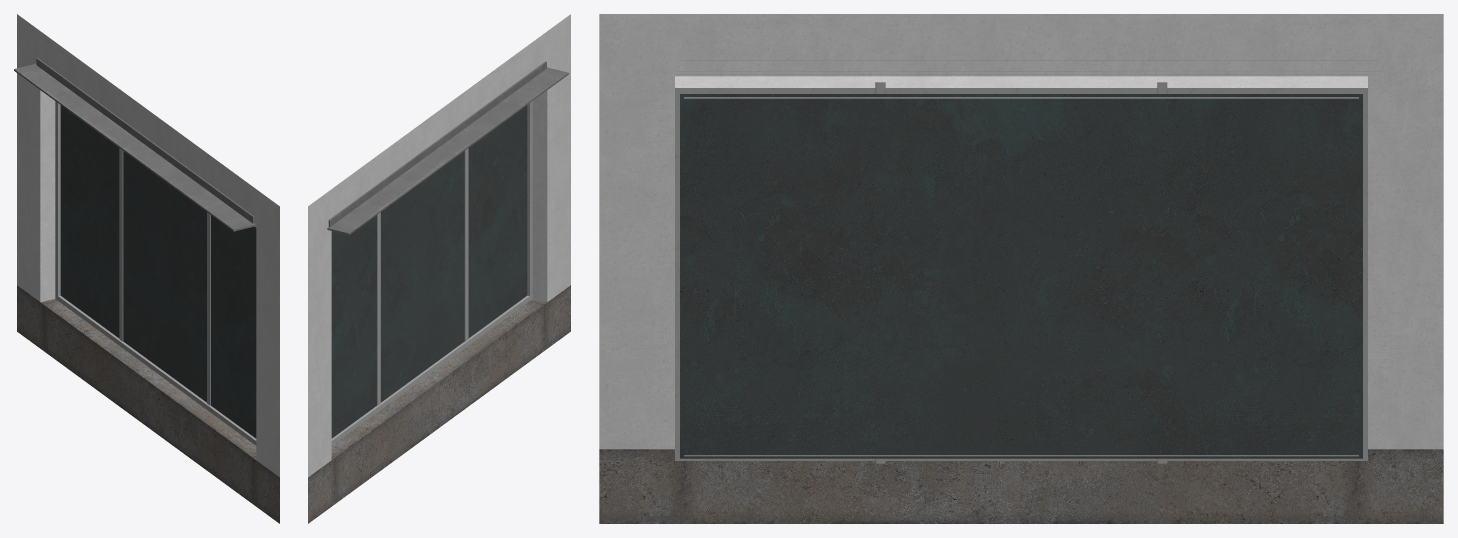
Rendered from MB_Showcase_04.fbx.
The picture shows the model from 3 angles, left to right: view 1: azimuth 30°, elevation 25°; view 2: azimuth 150°, elevation 25°; view 3: azimuth 270°, elevation 25°; orthographic projection. The views are drawn at different scales.
Parts seen in each view (by area): view 1: MB_Showcase_04; view 2: MB_Showcase_04; view 3: MB_Showcase_04.
Boxes of the visible parts, x1=… form: MB_Showcase_04: x1=14, y1=14, x2=279, y2=523; MB_Showcase_04: x1=308, y1=14, x2=570, y2=523; MB_Showcase_04: x1=599, y1=14, x2=1443, y2=523.
Bounding box in the file's own units: 53.74 × 400 × 600.
